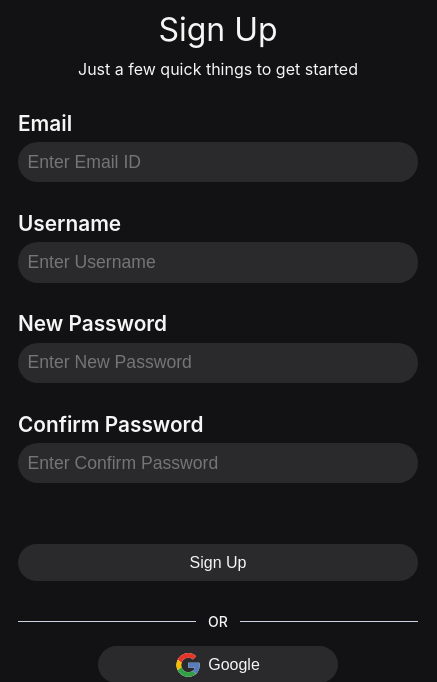
register › should display an error message when username is too long
Type "aaaaaaaaaaaaaaaaaaaaa" into the field labelled "Username" at (218, 262), box [18, 242, 418, 282]
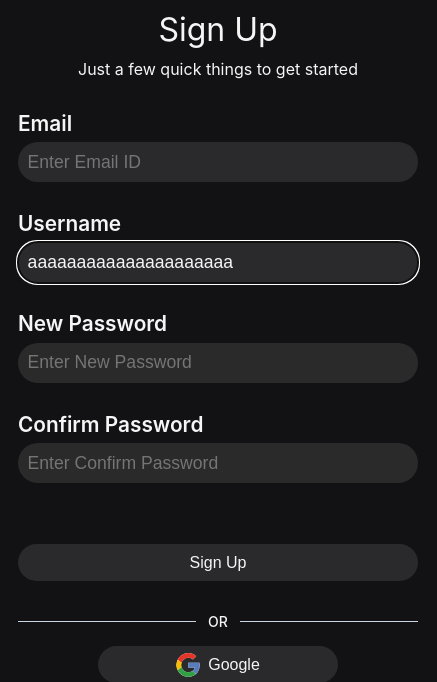
Click the button "Sign Up" at (218, 563), box [18, 544, 418, 581]
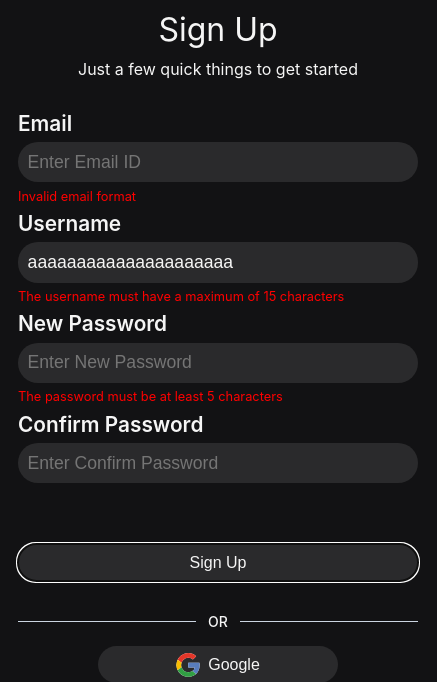
expect the text "The username must have a maximum of 15 characters" is shown: met, box [18, 289, 344, 304]
